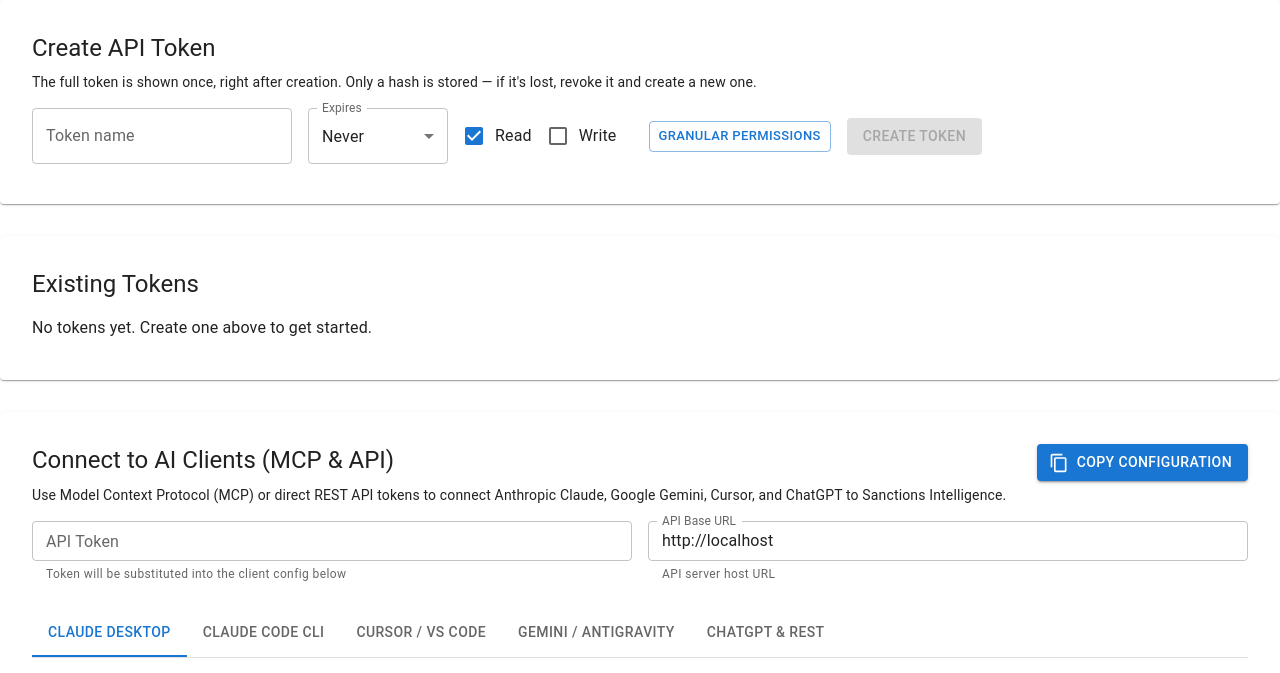
Test: ApiTokensTab token creation error handling (issue #166) › surfaces the server error message when returned as JSON
Check: the heading "Create API Token" is shown, box [32, 34, 215, 62]
Step 1. Type "Duplicate Token" into the field labelled "Token name" → (162, 136), box [32, 108, 292, 164]
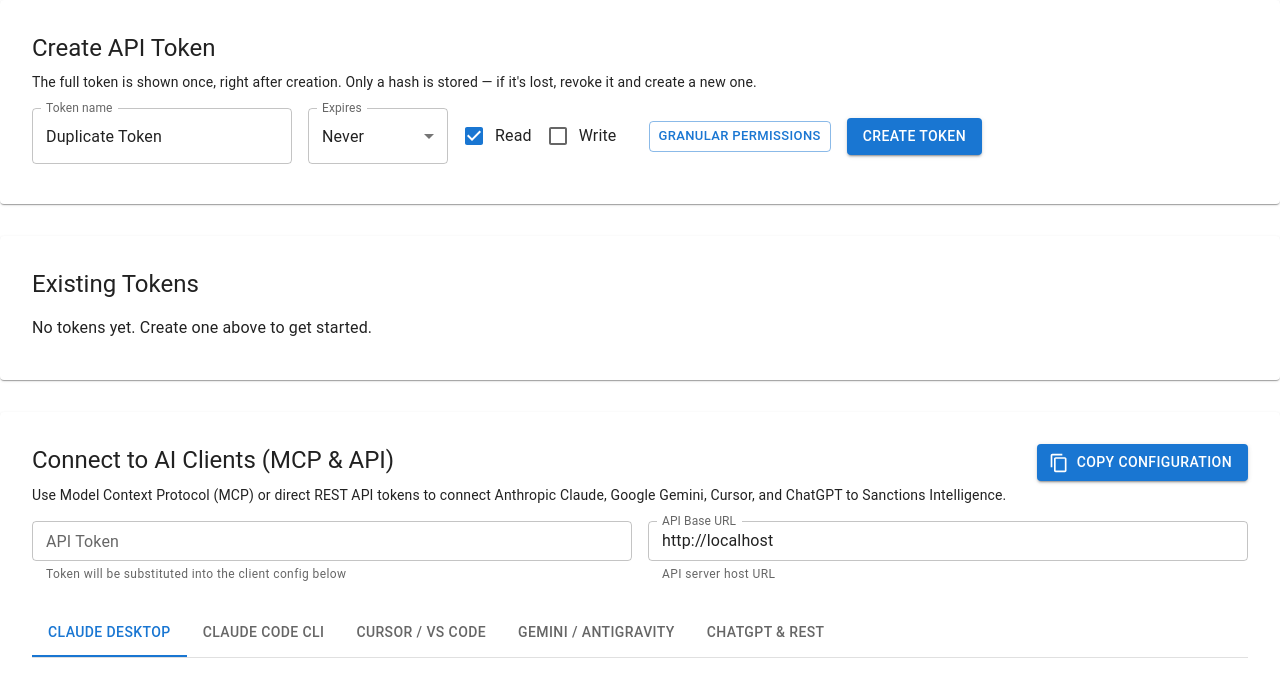
Step 2. Click the button "Create Token" → (914, 136), box [847, 118, 982, 155]
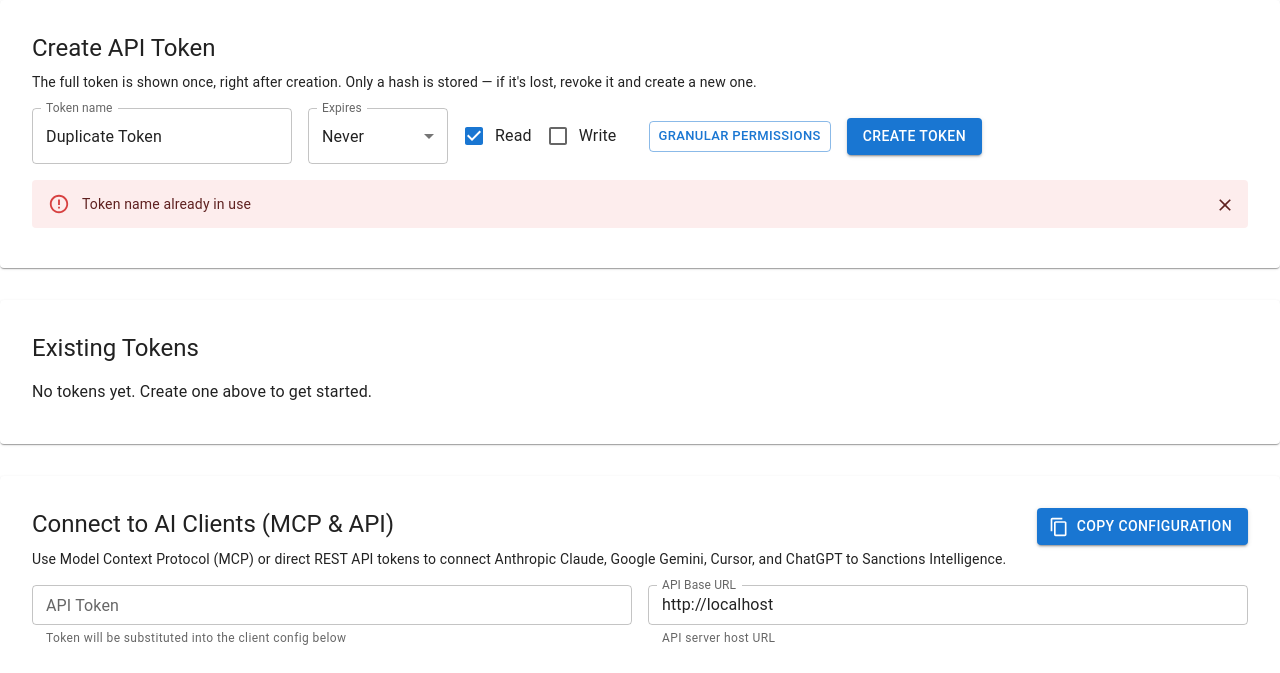
Check: the text "Token name already in use" is shown, box [82, 196, 251, 212]
